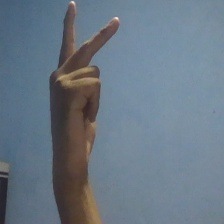K: (42, 1, 123, 192)
